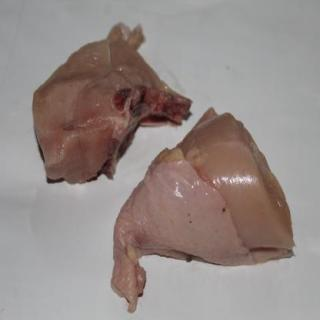Ayam: (115, 112, 295, 314), (33, 24, 192, 184)
